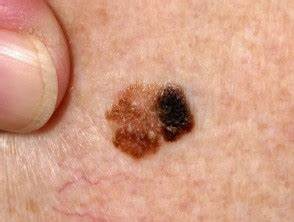Melanoma: (104, 82, 196, 161)
